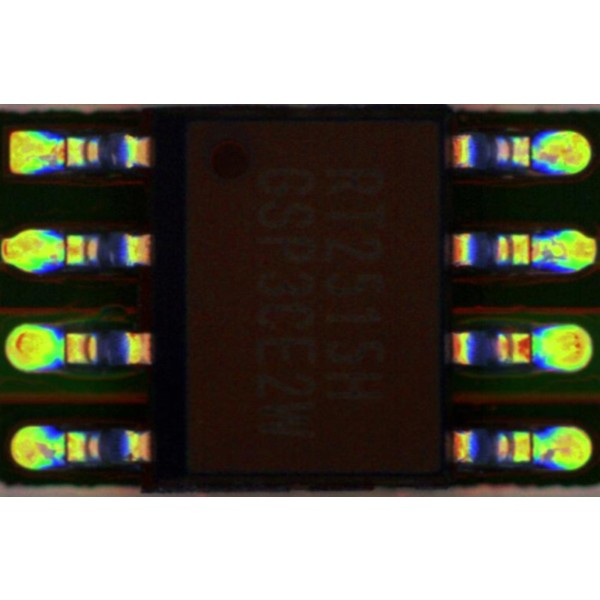Bad_podu: (42, 144, 86, 160), (514, 242, 548, 262)
